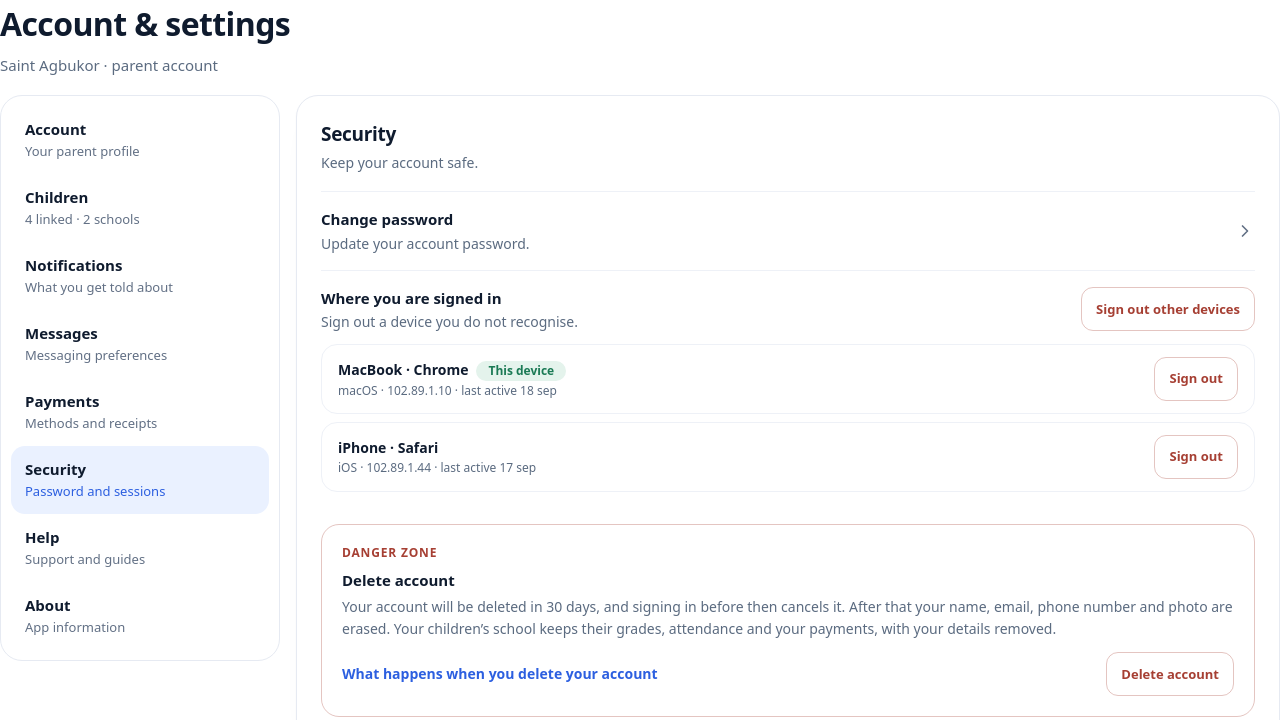
Settings → Security → Danger zone (fixtures) › keeps Delete disabled until a password is typed and the box is ticked
The image size is (1280, 720).
Click the button "Delete account". click: (1170, 674)
box: [1106,652,1234,696]
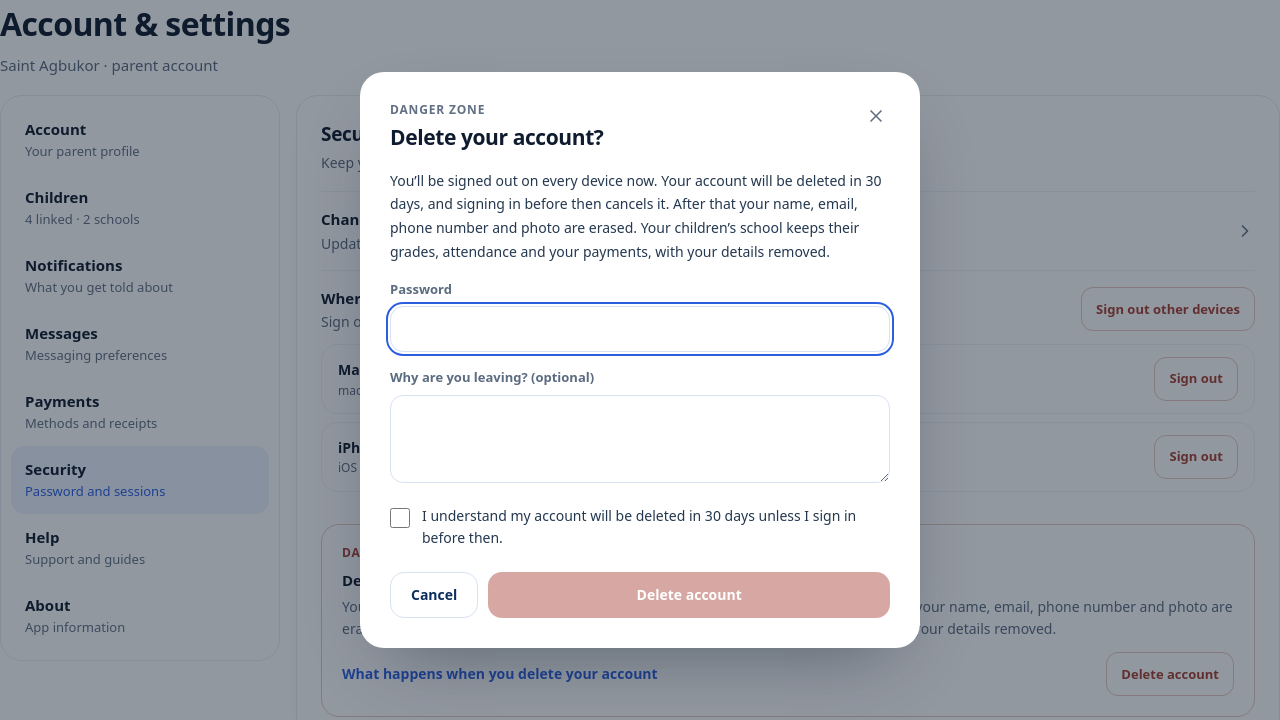
Now the button "Delete account" is disabled, box [488,572,890,618]
Type "pw" into the password field labelled "Password". click: (640, 329)
box: [390,306,890,352]
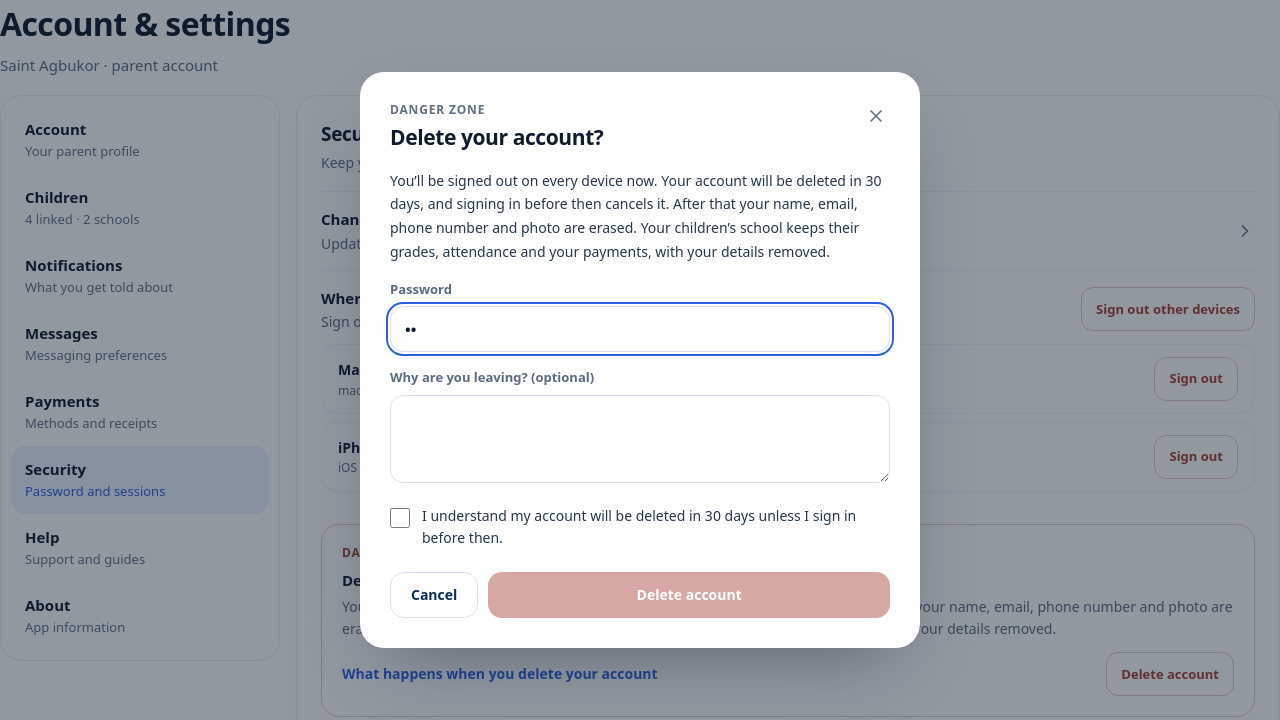
Now the button "Delete account" is disabled, box [488,572,890,618]
Click the checkbox labelled "I understand". click: (400, 518)
box: [390,508,410,528]
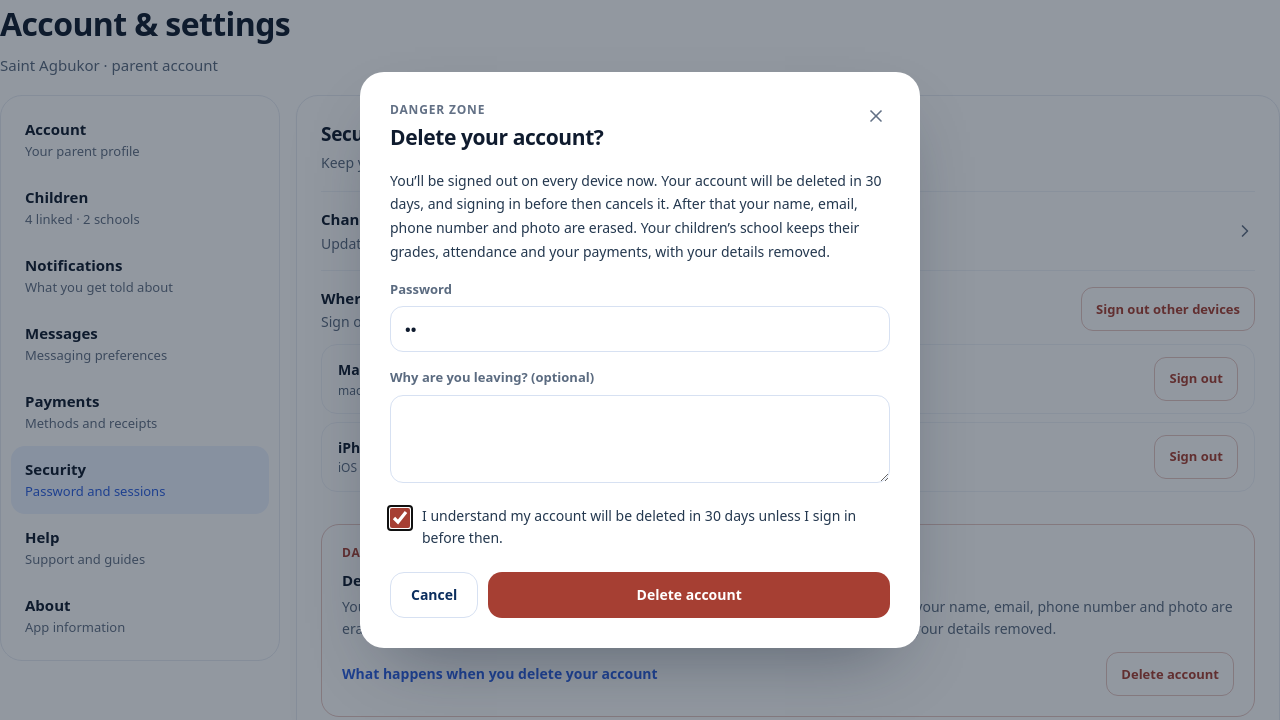
Now the button "Delete account" is enabled, box [488,572,890,618]
Clear the password field labelled "Password". click: (640, 329)
box: [390,306,890,352]
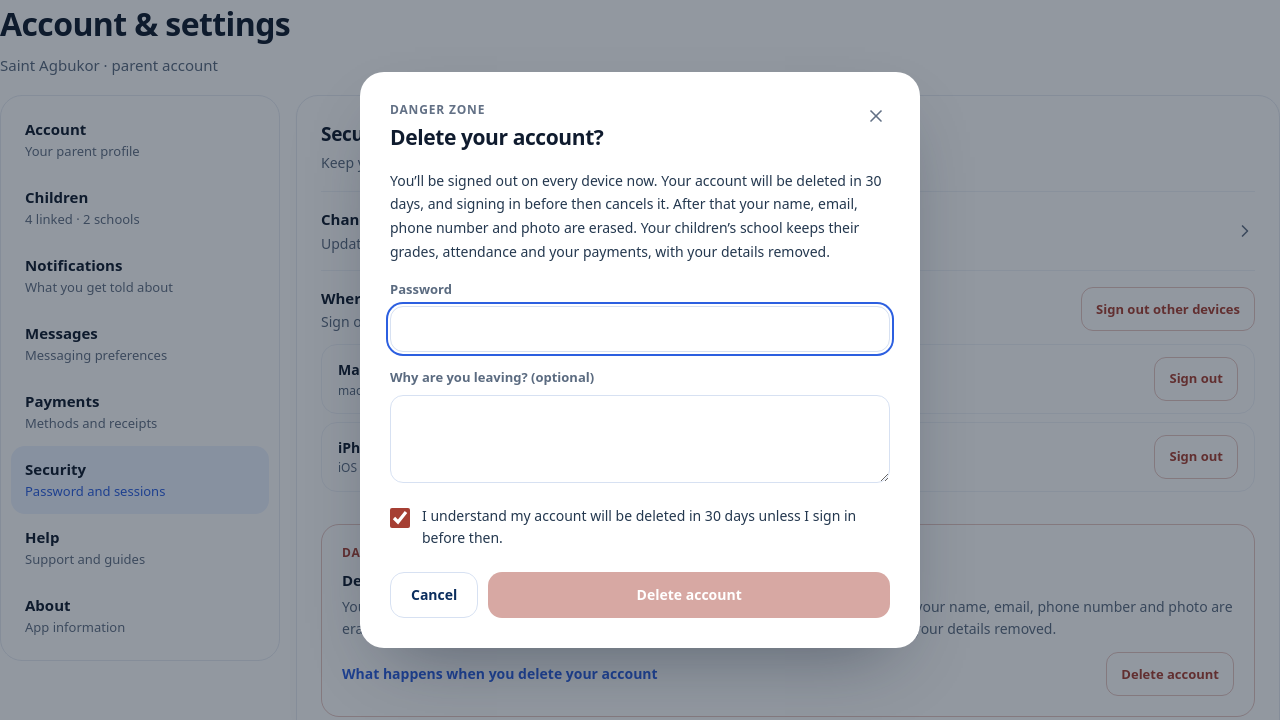
Now the button "Delete account" is disabled, box [488,572,890,618]
